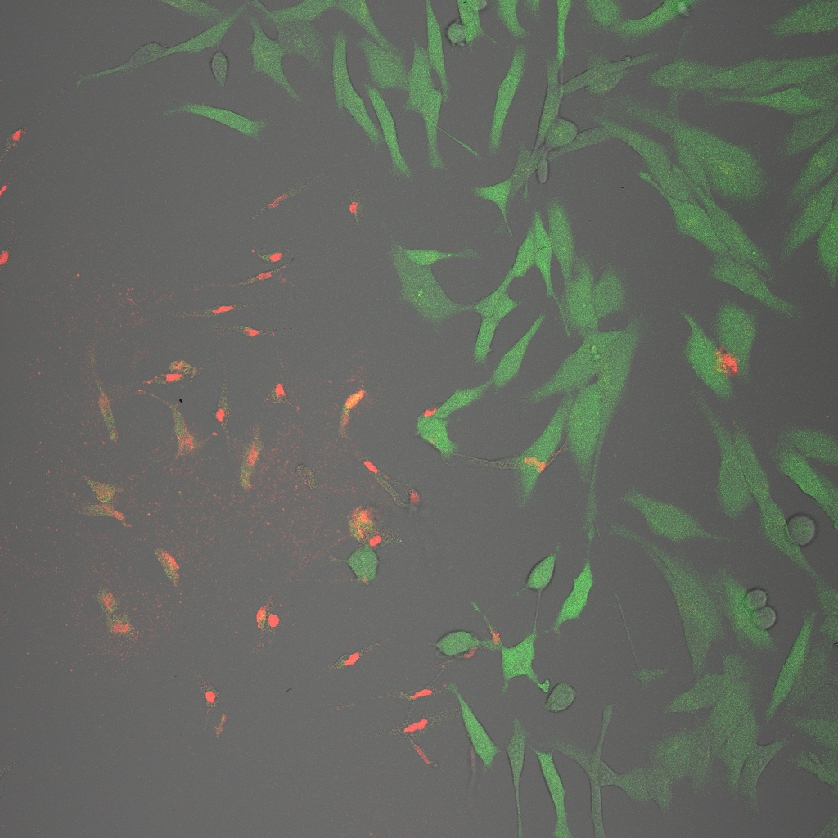dead: (310, 627, 401, 684), (85, 582, 141, 649), (82, 372, 123, 463), (246, 574, 290, 650), (174, 294, 263, 330), (233, 415, 267, 505), (145, 537, 190, 603), (190, 674, 232, 744), (228, 261, 305, 297), (330, 375, 362, 451), (213, 320, 291, 345), (390, 711, 456, 740), (395, 735, 441, 774)
live: (614, 526, 725, 673), (379, 244, 464, 331), (620, 483, 731, 549), (154, 99, 291, 146), (483, 35, 533, 152), (445, 685, 498, 776), (553, 558, 608, 641), (489, 311, 543, 395), (547, 190, 588, 286), (502, 716, 529, 838)
mid: (511, 401, 564, 511)
